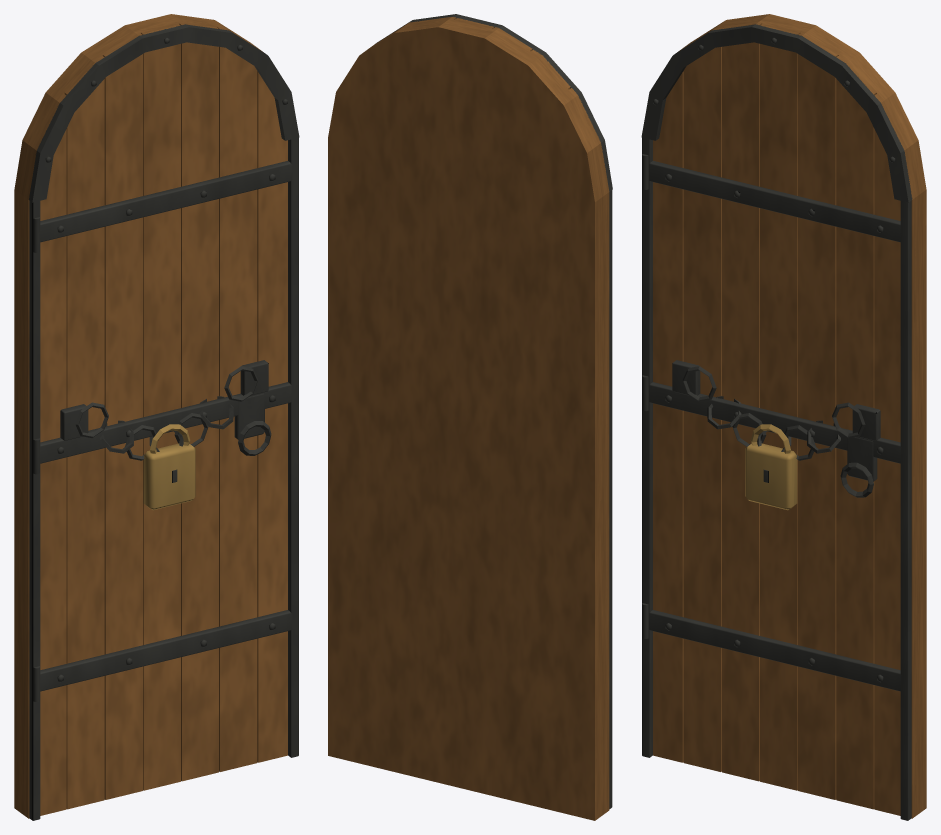
The model's file is Furn_ArchLockedDoor.fbx.
3 views of the same model, side by side, from view 1: azimuth 30°, elevation 25°; view 2: azimuth 150°, elevation 25°; view 3: azimuth 330°, elevation 25° (orthographic).
Parts seen in each view (by area): view 1: Furn_ArchLockedDoor_Mesh; view 2: Furn_ArchLockedDoor_Mesh; view 3: Furn_ArchLockedDoor_Mesh.
Part boxes in pixels (x1,y1,x2,y2): Furn_ArchLockedDoor_Mesh: (14, 14, 299, 820); Furn_ArchLockedDoor_Mesh: (328, 14, 612, 820); Furn_ArchLockedDoor_Mesh: (641, 14, 926, 820).
Size of the model in its own units: 0.859 by 2.32 by 0.15.
